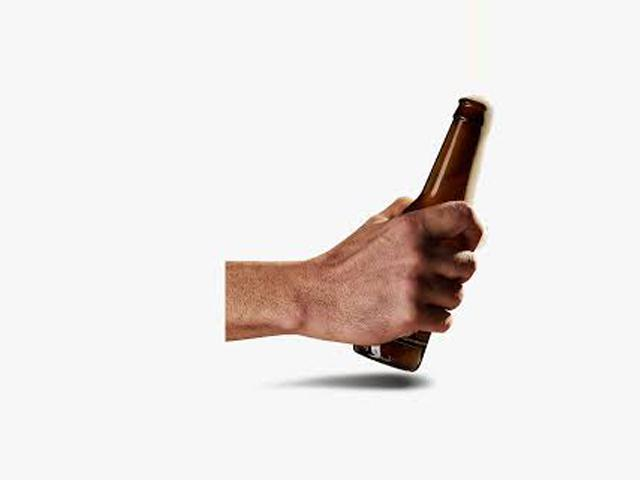beer: (353, 99, 487, 375)
